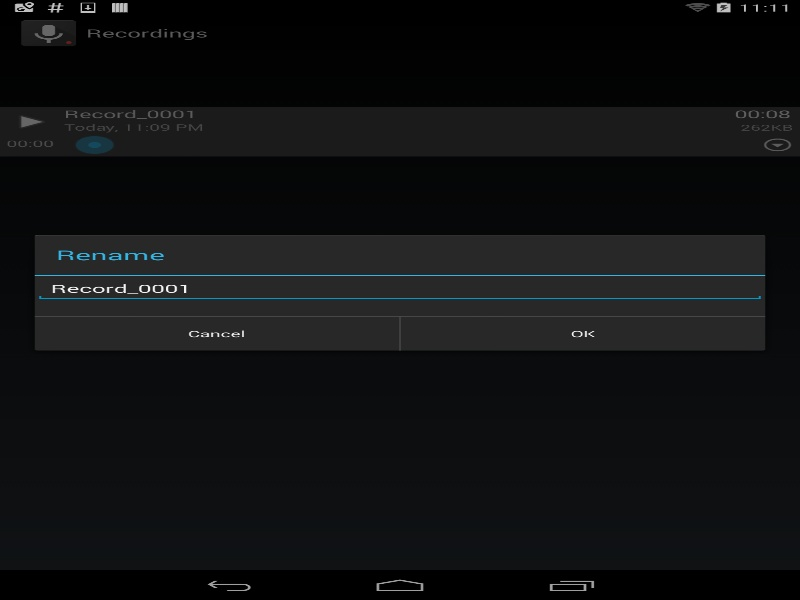Button: (34, 316, 399, 350), (400, 316, 765, 350)
Input: (34, 276, 765, 300)
